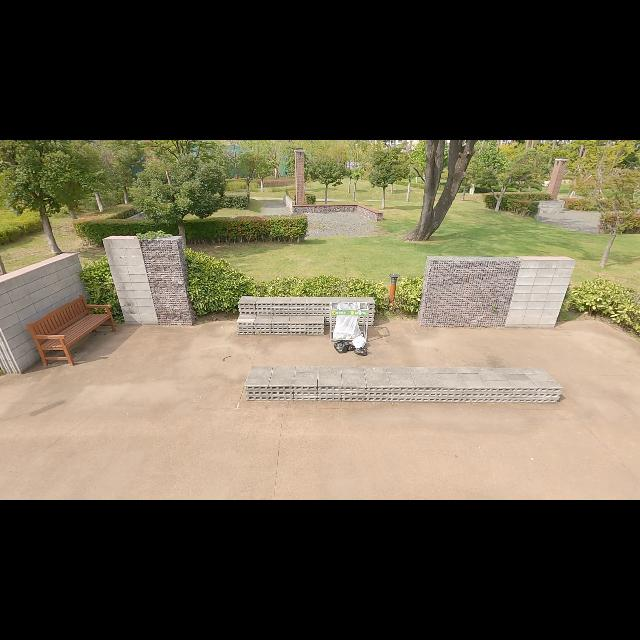trash: (333, 337, 349, 355), (352, 334, 366, 350), (354, 346, 370, 356), (346, 342, 356, 352)
